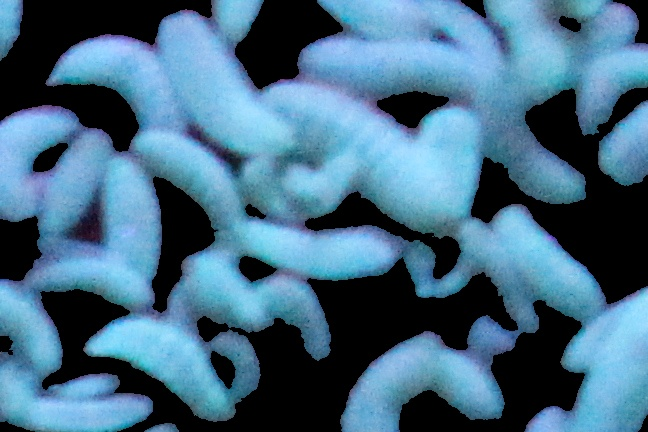larvae: (264, 80, 455, 226), (85, 310, 228, 410), (134, 129, 246, 239), (492, 202, 602, 314), (292, 32, 471, 94), (567, 296, 648, 432), (490, 108, 590, 208), (1, 101, 75, 225), (245, 215, 396, 275), (32, 129, 112, 239), (347, 341, 439, 432), (75, 39, 171, 124), (493, 1, 573, 97), (178, 47, 262, 132), (33, 255, 160, 311), (12, 384, 156, 432), (179, 253, 272, 327), (572, 45, 648, 132), (103, 149, 162, 260), (249, 275, 330, 355), (1, 272, 61, 363), (210, 329, 269, 415), (236, 158, 303, 229), (440, 340, 500, 418), (280, 155, 353, 213)
